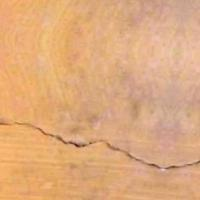crack: (1, 97, 199, 199)
